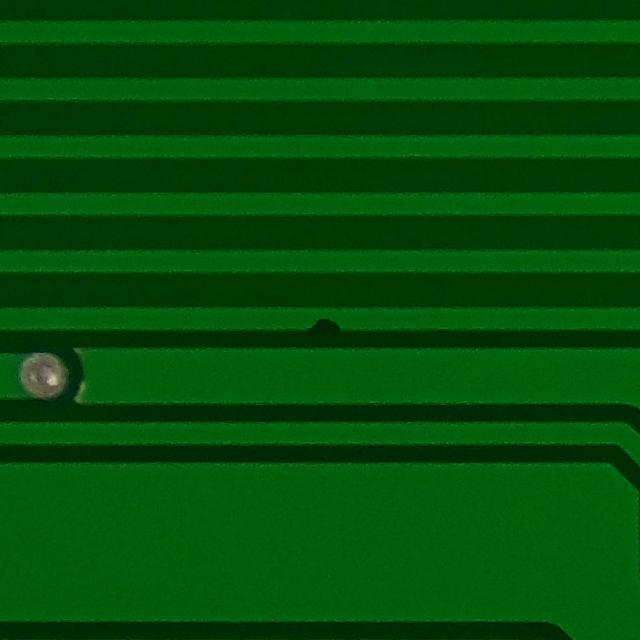mouse_bite: (288, 298, 353, 343)
